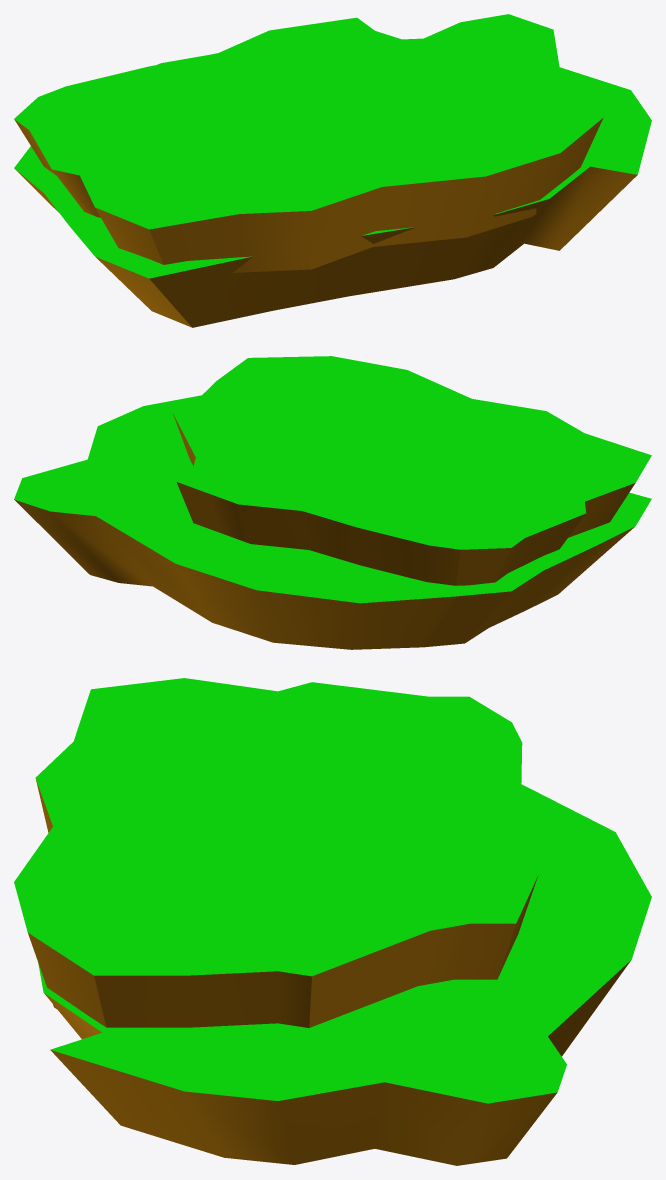
The model's file is SM_TempleIsland.fbx.
3 views of the same model, one above another, from view 1: azimuth 30°, elevation 25°; view 2: azimuth 150°, elevation 25°; view 3: azimuth 270°, elevation 25° (orthographic). The views are drawn at different scales.
Parts seen in each view (by area): view 1: SM_TempleIsland; view 2: SM_TempleIsland; view 3: SM_TempleIsland.
Part boxes in pixels (box(x1,y1,x2,y2)): SM_TempleIsland: box(14, 14, 651, 327); SM_TempleIsland: box(14, 356, 651, 649); SM_TempleIsland: box(14, 678, 651, 1165).
Bounding box in the file's own units: 57.19 × 12.6 × 42.57.
